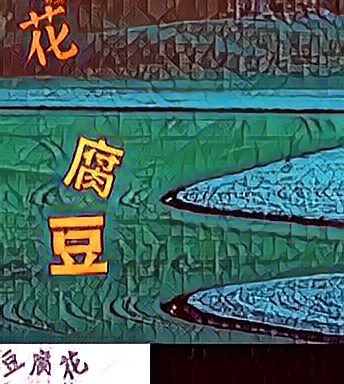B6B9: (46, 212, 109, 279)
B8AF: (63, 132, 126, 199)
BBA8: (18, 4, 81, 71)
